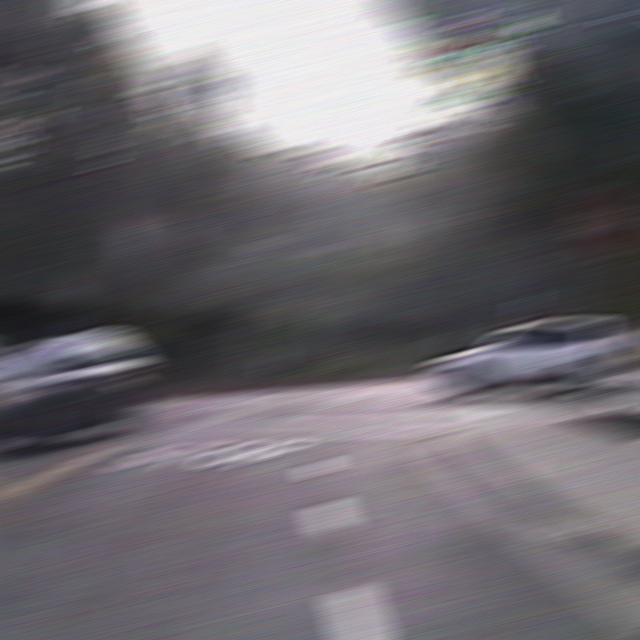stop: (565, 183, 636, 258)
